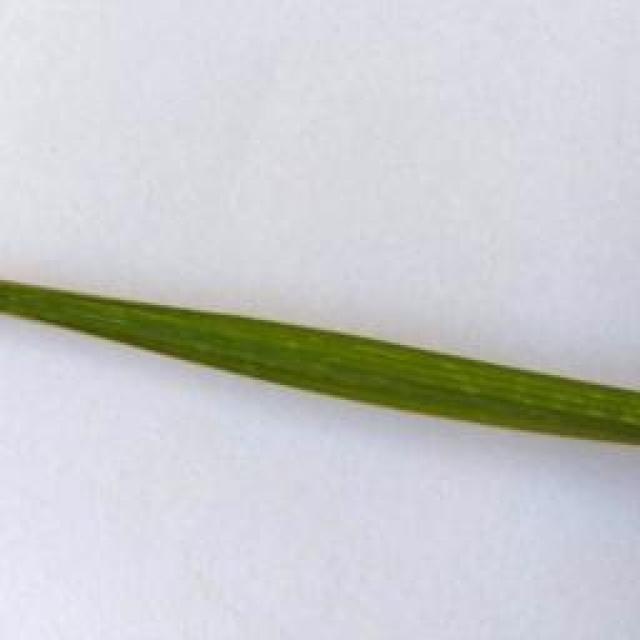Healthy-Plant: (489, 348, 640, 492), (220, 298, 374, 426), (361, 332, 501, 452), (94, 284, 228, 394), (0, 261, 106, 358)
